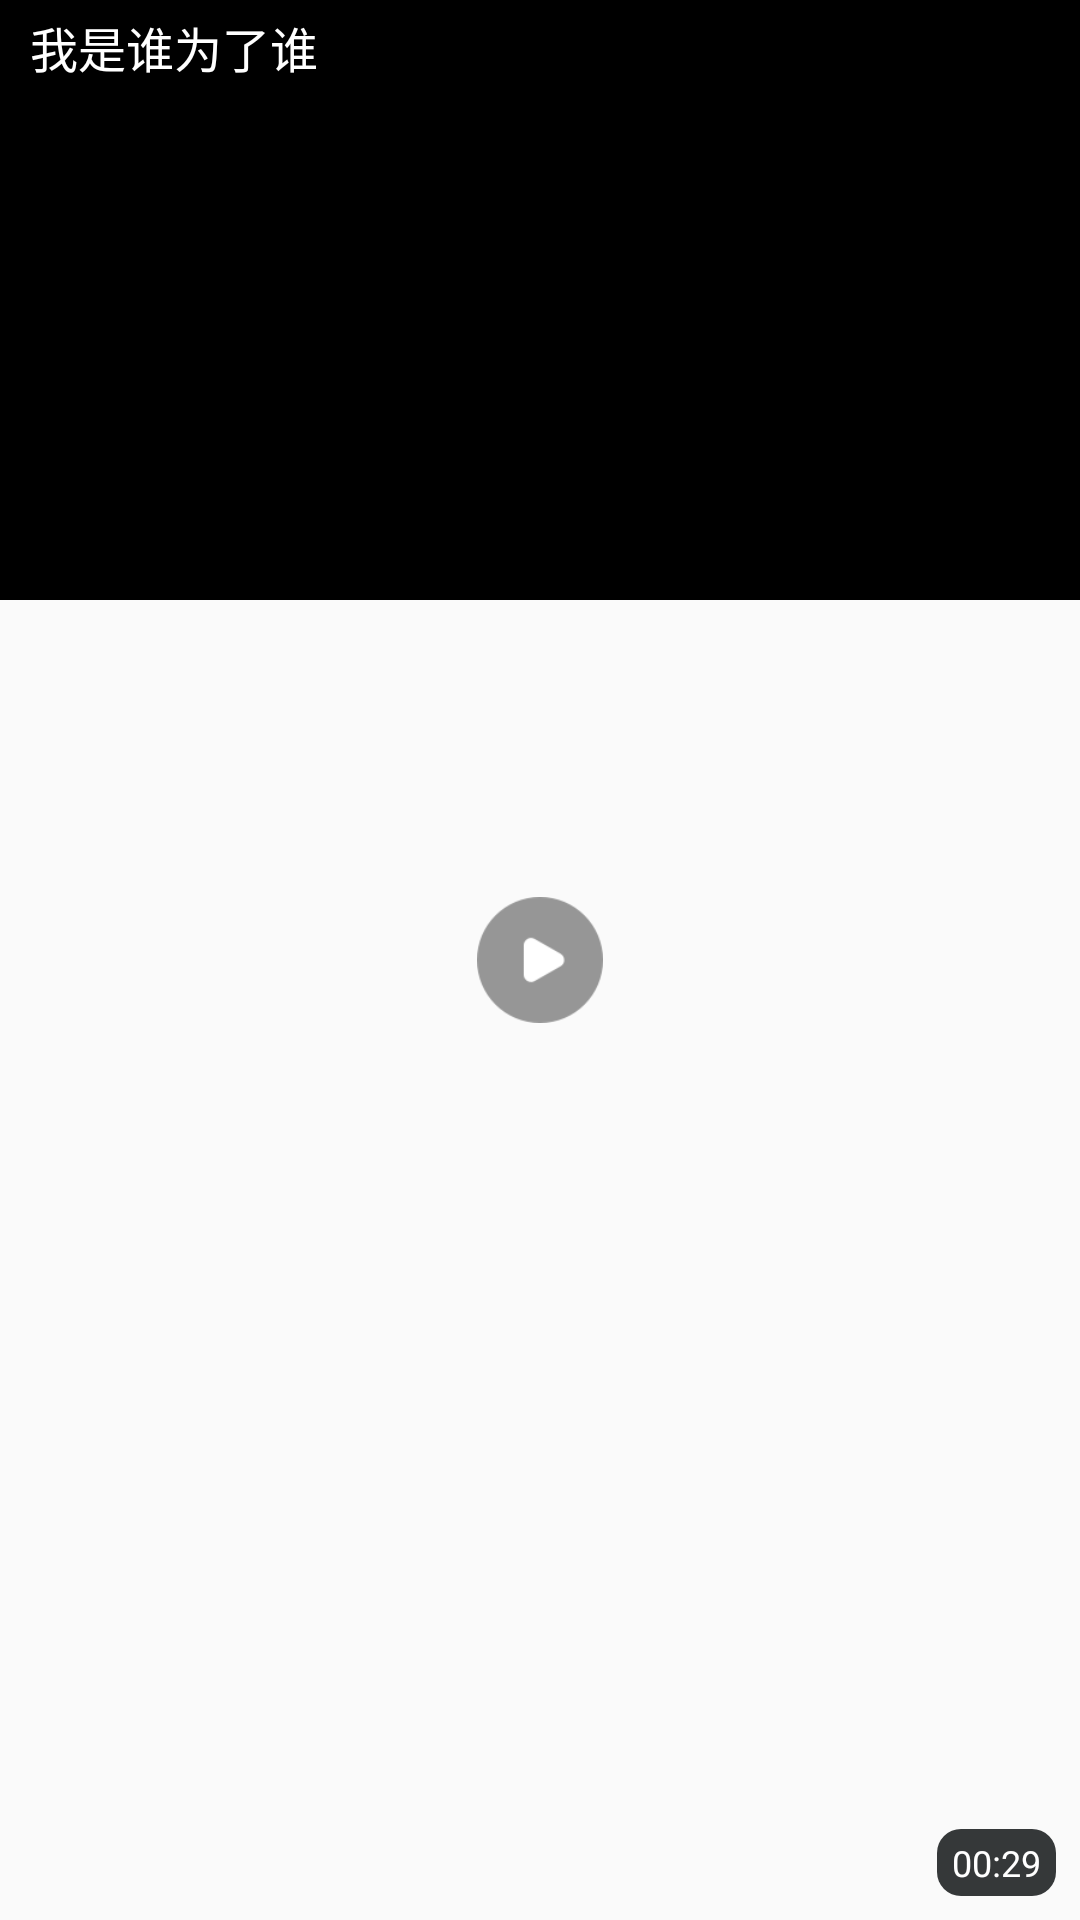

Locate icon controls on the screen. Image size 1080px×1920px, boxes as (x1=x1, y1=y1, x2=x2, y2=y2).
play: (x1=477, y1=897, x2=603, y2=1023)
